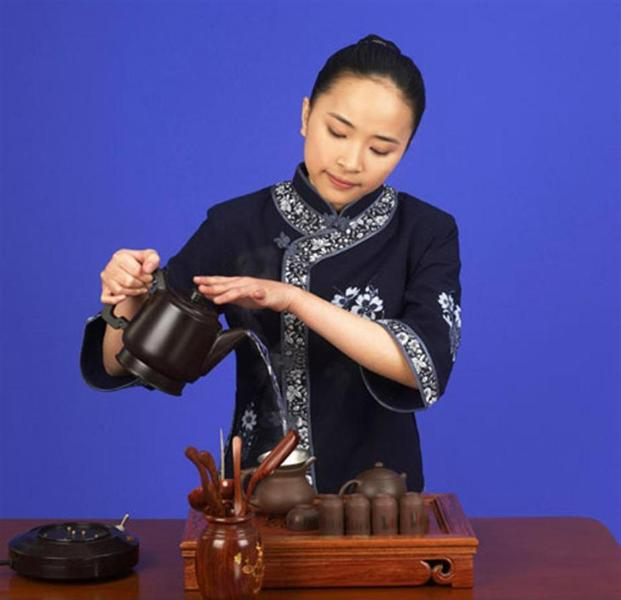person: (81, 33, 465, 492)
